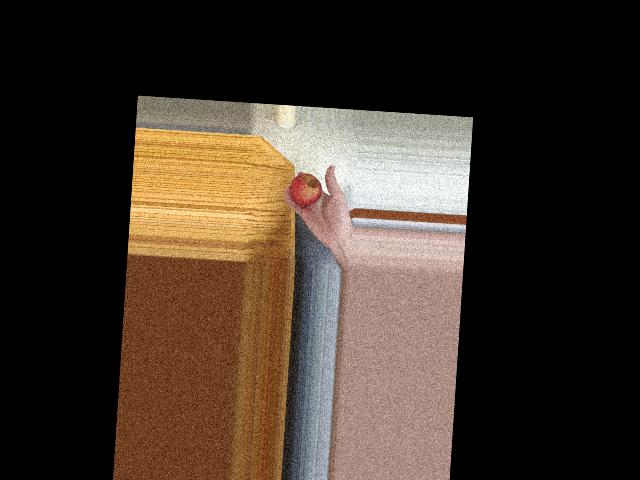apple: (289, 172, 325, 209)
